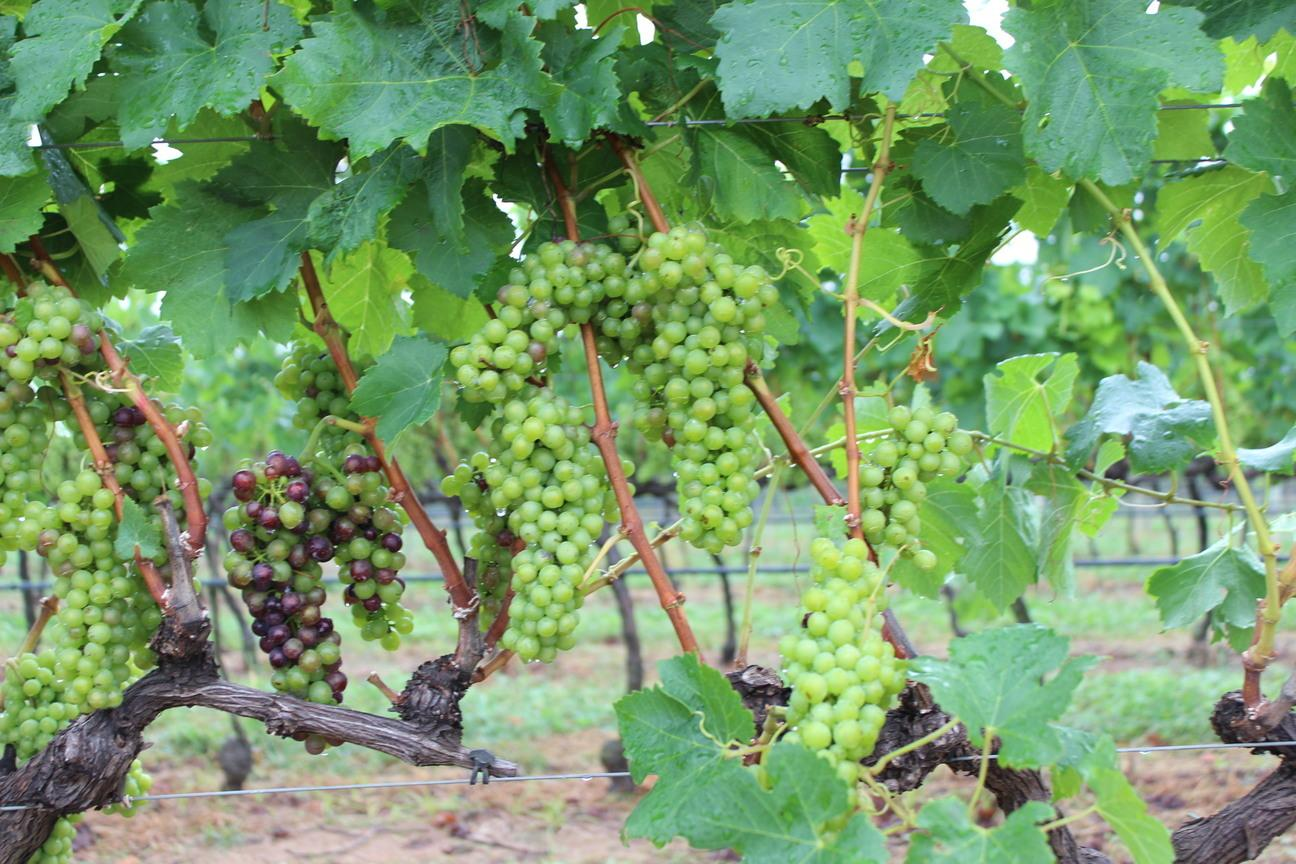leaf: (273, 2, 553, 155), (1003, 0, 1221, 183), (711, 0, 965, 114), (112, 0, 299, 147), (909, 625, 1096, 765), (1065, 360, 1214, 472), (1158, 166, 1271, 310), (1053, 728, 1172, 862), (10, 0, 139, 120), (307, 144, 421, 259), (911, 102, 1025, 214), (888, 477, 977, 598), (1146, 538, 1264, 627), (321, 241, 412, 356), (905, 796, 1054, 862), (351, 337, 446, 440), (958, 480, 1034, 606), (984, 352, 1077, 449), (1223, 76, 1295, 178), (1238, 187, 1295, 298), (1009, 164, 1071, 236), (118, 325, 184, 391), (0, 171, 49, 252), (113, 495, 162, 560), (1238, 426, 1295, 472)
